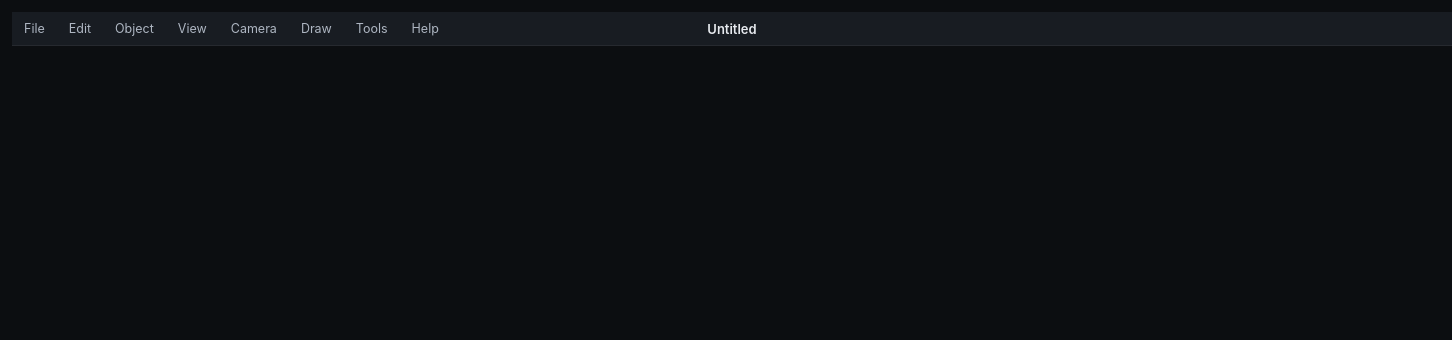
Scenario: MenuBar › shows a checkmark for Section Cut only when a section is placed AND active
The width and height of the screenshot is (1452, 340).
Step 1. Click the button "View" → (192, 28), box x1=166 y1=12 x2=219 y2=45
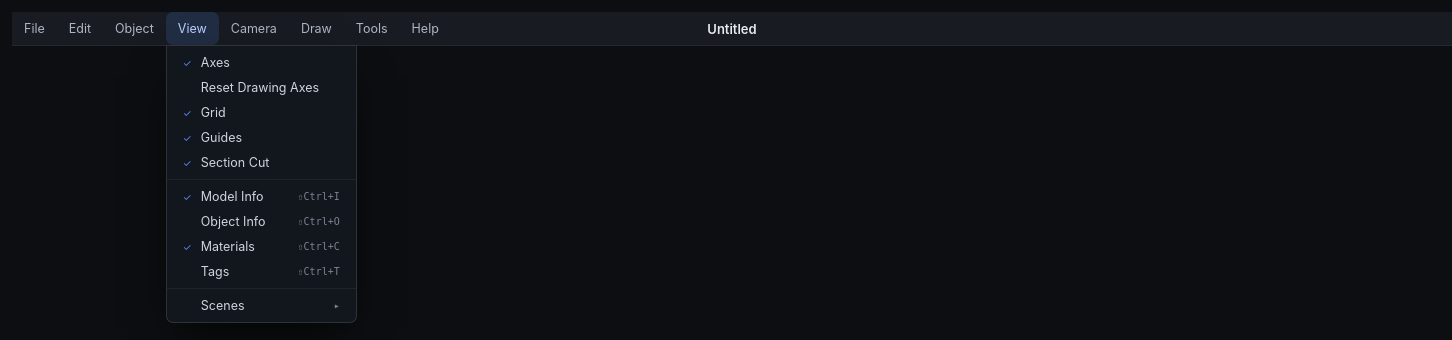
Now the text "Section Cut" shows "✓", box x1=183 y1=156 x2=192 y2=168
